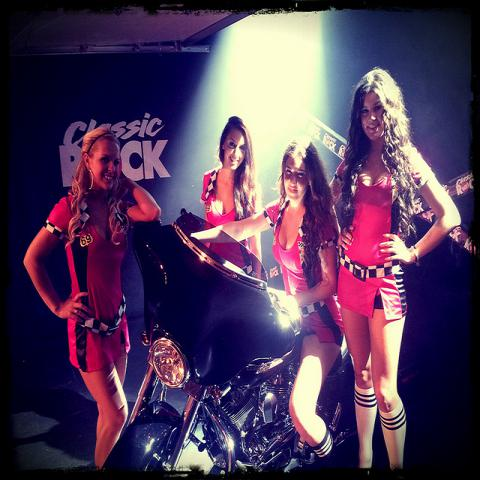motorcycle: (106, 215, 358, 470)
